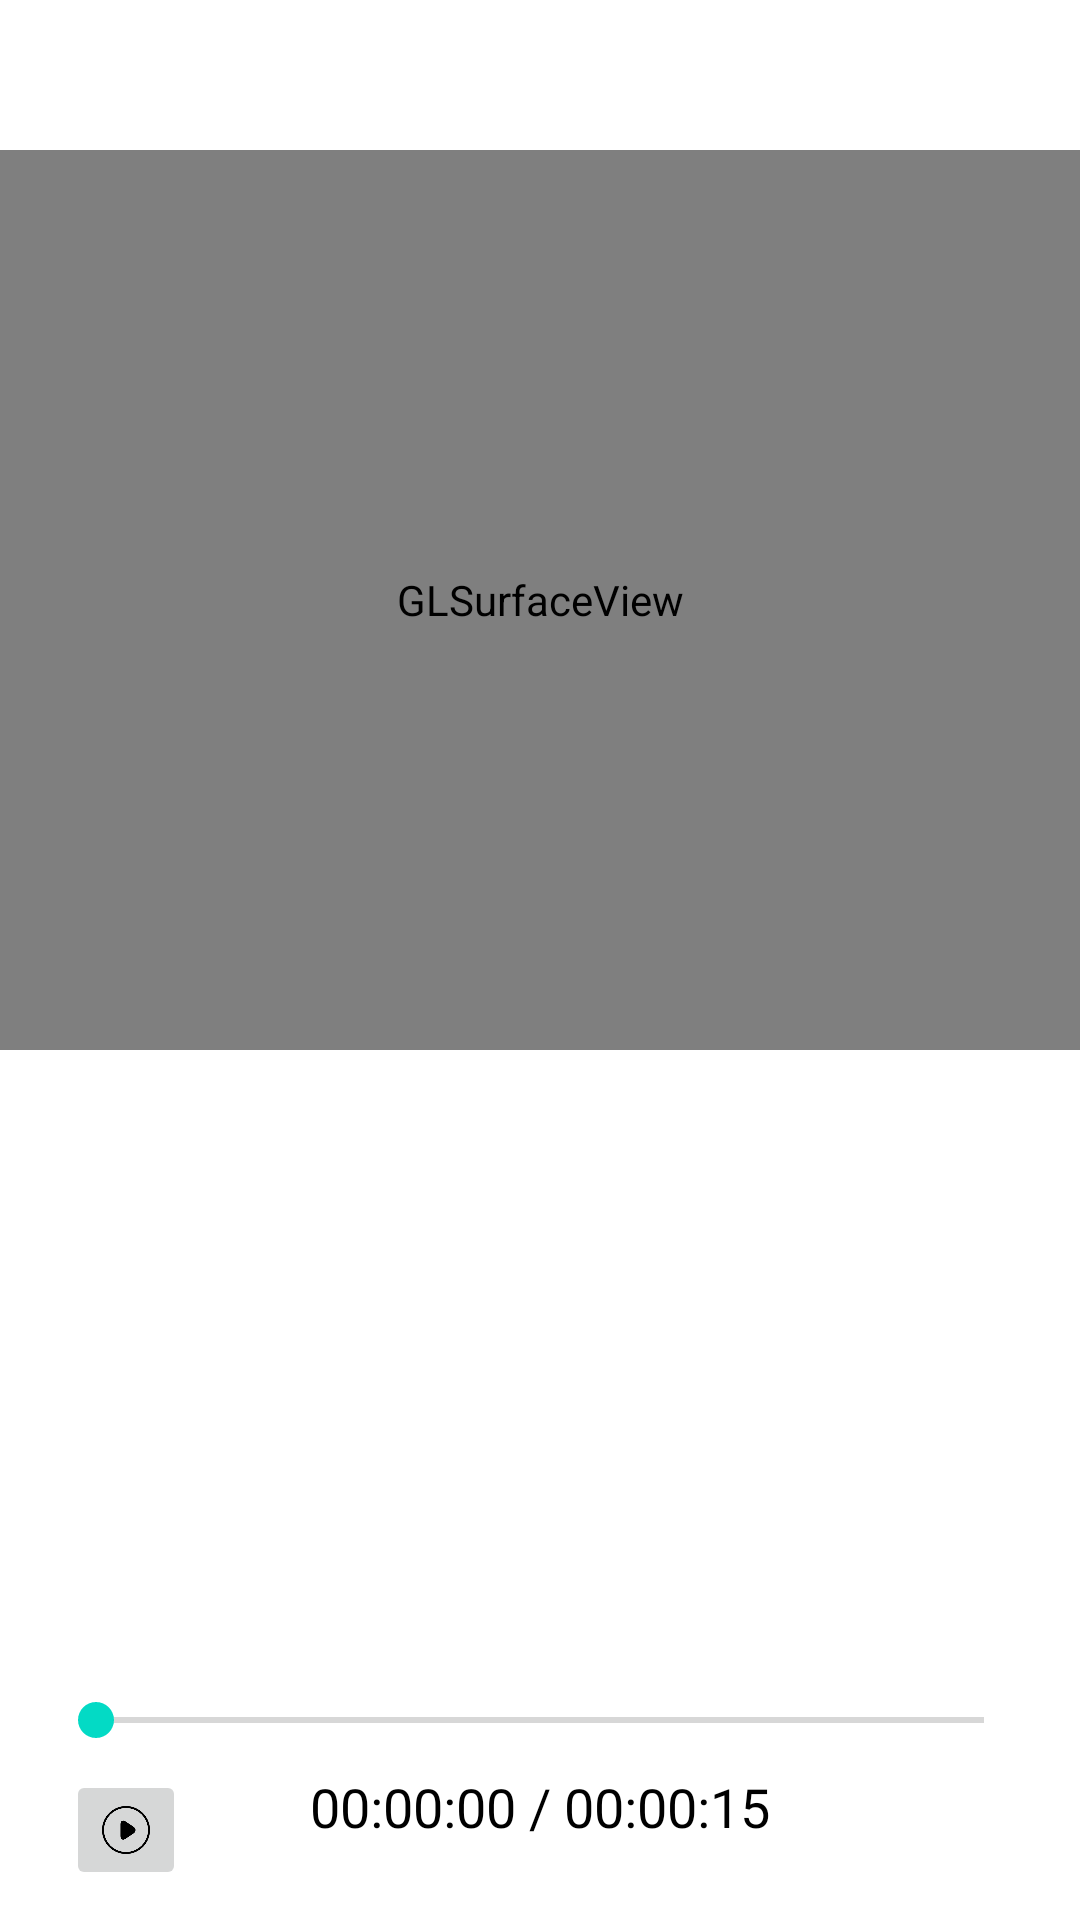

Where icons sit on this 1080w x 1920h app screen, as {"x1": x1, "y1": y1, "x2": x2, "y2": y2}:
play: {"x1": 78, "y1": 1788, "x2": 174, "y2": 1872}
